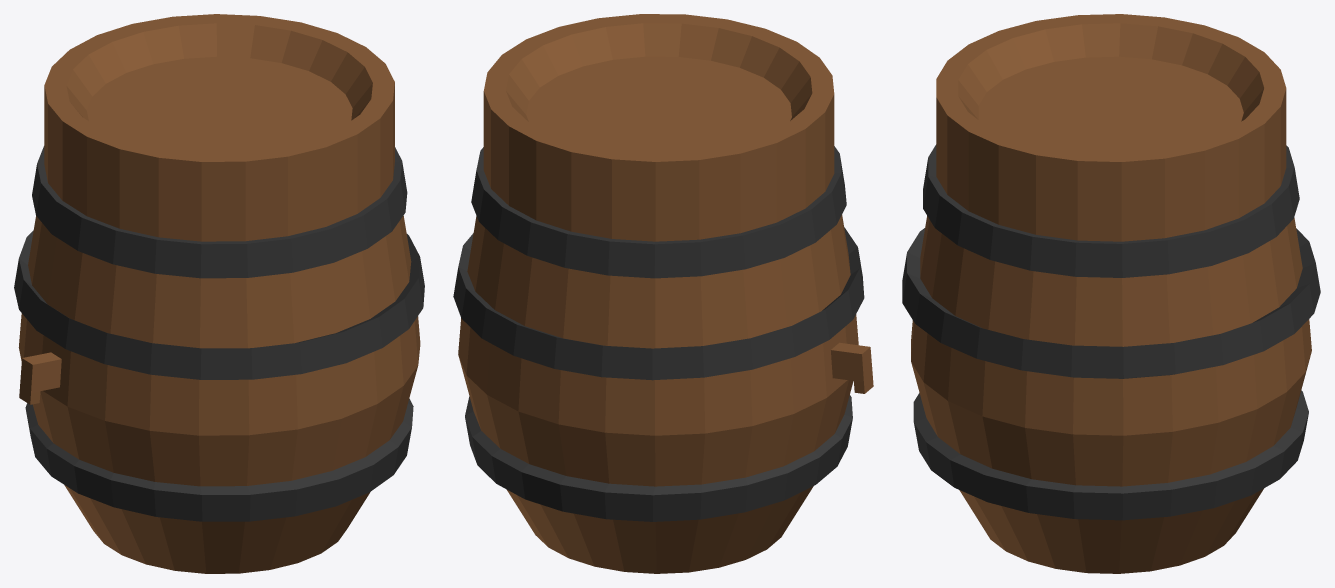
File: WoodenBarrel2Prop.fbx
3 renders of one model, left to right at view 1: azimuth 30°, elevation 25°; view 2: azimuth 150°, elevation 25°; view 3: azimuth 270°, elevation 25°, orthographic.
Parts seen in each view (by area): view 1: WoodenBarrelProp2; view 2: WoodenBarrelProp2; view 3: WoodenBarrelProp2.
Part boxes in pixels (box(x1,y1,x2,y2)): WoodenBarrelProp2: box(14, 14, 424, 573); WoodenBarrelProp2: box(453, 14, 873, 573); WoodenBarrelProp2: box(902, 14, 1320, 573).
Bounding box in the file's own units: 250 × 271 × 238.
